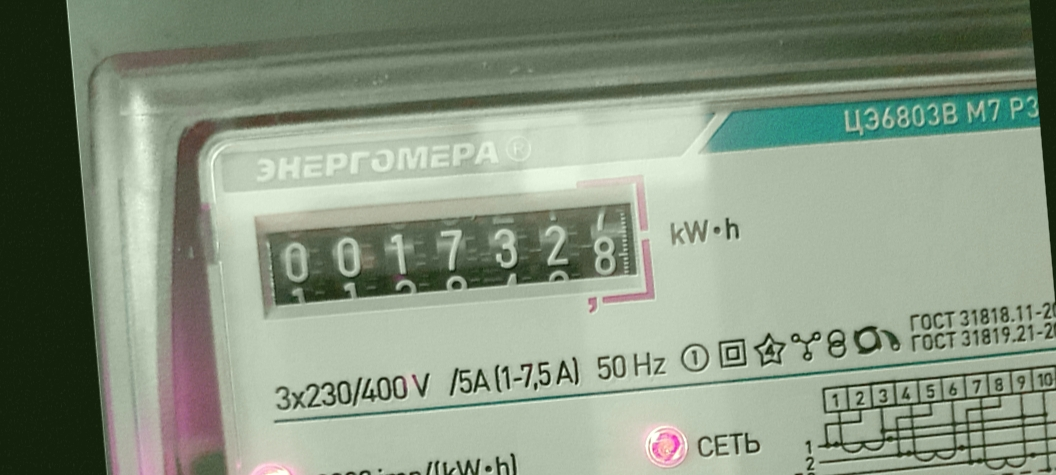0: (278, 239, 313, 286), (331, 233, 364, 280)
1: (385, 230, 411, 278)
2: (538, 222, 571, 269)
3: (489, 225, 520, 271)
7: (436, 226, 466, 275)
8: (588, 234, 617, 278)
screen: (244, 176, 663, 339)
